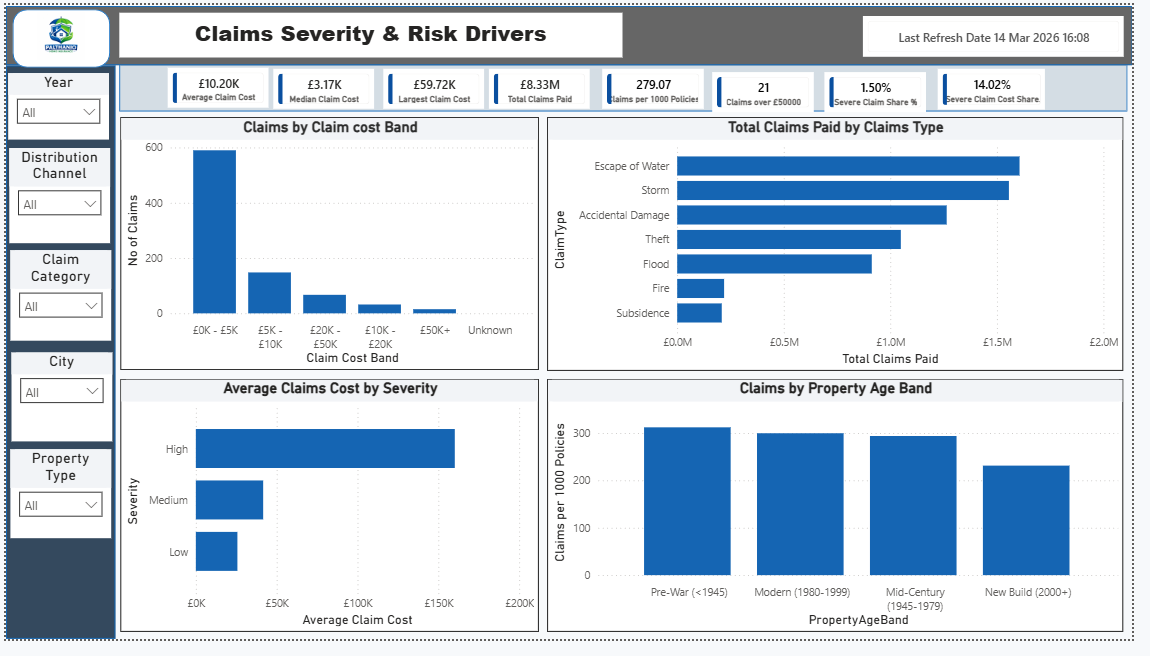

The page's visual inventory and layout, read from the dashboard file:
{"tool":"powerbi","page":{"name":"Claims Severity & Risk Drivers","canvas":[1280,720],"ordinal":6},"visuals":[{"type":"group","id":"g1","title":"KPIs ","box":[129.1,67.8,1145.7,54.5],"z":0},{"type":"shape","title":"KPI Background","box":[129.1,67.8,1145.7,53.5],"z":0,"group":"g1"},{"type":"cardVisual","title":"Total Revenue","fields":{"Data":["_Measures.Average Claim Cost"]},"box":[183.7,71.5,114.2,45],"z":1000,"group":"g1"},{"type":"cardVisual","title":"Average Claim Cost","fields":{"Data":["_Measures.Severe Claim Cost Share %"]},"box":[1058.9,72.2,122.2,46.7],"z":1000},{"type":"cardVisual","title":"Total Claims Paid","fields":{"Data":["_Measures.Median Claim Cost"]},"box":[303.7,72.6,114.2,45],"z":2000,"group":"g1"},{"type":"clusteredColumnChart","title":"Claims by Property Age Band","fields":{"Category":["gold dim_address.PropertyAgeBand"],"Y":["_Measures.Claims per 1000 Policies"]},"box":[615.4,425.3,654.8,286.9],"z":2000},{"type":"cardVisual","title":"Claims Frequency","fields":{"Data":["_Measures.Claims over £50000"]},"box":[803.3,75.9,115,45],"z":3000,"group":"g1"},{"type":"clusteredBarChart","title":"Total Claims Paid by Claims Type","fields":{"Category":["gold dim_claim_type.ClaimType"],"Y":["_Measures.Total Claims Paid (Report)"]},"box":[615.4,127.1,654.8,288],"z":3000},{"type":"cardVisual","title":"Loss Ratio","fields":{"Data":["_Measures.Claims per 1000 Policies"]},"box":[677.5,72.6,115,45],"z":4000,"group":"g1"},{"type":"clusteredBarChart","title":"Average Claims Cost by Severity","fields":{"Y":["_Measures.Average Claim Cost"],"Category":["gold dim_severity.Severity"]},"box":[130.5,425.3,475.9,286.9],"z":4000},{"type":"cardVisual","title":"No. Of Active Policies","fields":{"Data":["_Measures.Largest Claim Cost"]},"box":[428.7,72.6,114.2,45],"z":5000,"group":"g1"},{"type":"clusteredColumnChart","title":"Claims by Claim cost Band","fields":{"Category":["rpt_claim_payments.Claim Cost Band"],"Y":["_Measures.No of Claims (Report)"]},"box":[130.5,127.1,475.9,286.9],"z":5000},{"type":"shape","title":"Deep Blue Header ","box":[0,68.6,124.3,651.4],"z":6000},{"type":"cardVisual","title":"No. Of Claims","fields":{"Data":["_Measures.Total Claims Paid (Report)"]},"box":[549.1,72.6,114.2,45],"z":6000,"group":"g1"},{"type":"shape","title":"Deep Blue Header ","box":[0,1.4,1280,67.1],"z":7000},{"type":"cardVisual","title":"Average Claim Cost","fields":{"Data":["_Measures.High Value Claim Share %"]},"box":[930,76.8,115.6,45.6],"z":7000,"group":"g1"},{"type":"textbox","title":"Executive Summary","box":[129.2,8.5,571.5,50.8],"z":8000},{"type":"shape","title":"Logo Background","box":[6.9,5.4,110.8,66.2],"z":9000},{"type":"image","title":"Logo","box":[19.4,8.2,85.3,54.1],"z":10000},{"type":"slicer","title":"Year","fields":{"Values":["gold dim_date.YearNumber"]},"box":[2.7,77.3,114.5,75.5],"z":11000},{"type":"slicer","title":"Claim Category","fields":{"Values":["gold dim_claim_type.ClaimType"]},"box":[5.5,279.1,114.5,102.7],"z":12000},{"type":"slicer","title":"City","fields":{"Values":["gold dim_address.City"]},"box":[6.7,394.4,114.4,101.1],"z":13000},{"type":"slicer","title":"Distribution Channel","fields":{"Values":["gold dim_broker.Channel"]},"box":[3.6,162.7,114.5,108.2],"z":14000},{"type":"cardVisual","title":"Average Claim Cost","fields":{"Data":["_Measures.Last Refresh Date"]},"box":[973.3,12.2,296.7,46.7],"z":15000},{"type":"slicer","title":"Property Type","fields":{"Values":["gold dim_address.PropertyType"]},"box":[5.6,504.4,114.4,101.1],"z":16000}]}

Visuals, with their boxes in screenshot pixels (x1, y1, x2, y2), scaled from the page's 1280x720 canvas onto the 1150x656 screenshot:
"KPIs " group: 116, 62, 1145, 111
"KPI Background" shape: 116, 62, 1145, 111
"Total Revenue" cardVisual: 165, 65, 268, 106
"Average Claim Cost" cardVisual: 951, 66, 1061, 108
"Total Claims Paid" cardVisual: 273, 66, 375, 107
"Claims by Property Age Band" clusteredColumnChart: 553, 387, 1141, 649
"Claims Frequency" cardVisual: 722, 69, 825, 110
"Total Claims Paid by Claims Type" clusteredBarChart: 553, 116, 1141, 378
"Loss Ratio" cardVisual: 609, 66, 712, 107
"Average Claims Cost by Severity" clusteredBarChart: 117, 387, 545, 649
"No. Of Active Policies" cardVisual: 385, 66, 488, 107
"Claims by Claim cost Band" clusteredColumnChart: 117, 116, 545, 377
"Deep Blue Header " shape: 0, 63, 112, 655
"No. Of Claims" cardVisual: 493, 66, 596, 107
"Deep Blue Header " shape: 0, 1, 1149, 62
"Average Claim Cost" cardVisual: 836, 70, 939, 112
"Executive Summary" textbox: 116, 8, 630, 54
"Logo Background" shape: 6, 5, 106, 65
"Logo" image: 17, 7, 94, 57
"Year" slicer: 2, 70, 105, 139
"Claim Category" slicer: 5, 254, 108, 348
"City" slicer: 6, 359, 109, 451
"Distribution Channel" slicer: 3, 148, 106, 247
"Average Claim Cost" cardVisual: 874, 11, 1141, 54
"Property Type" slicer: 5, 460, 108, 552
